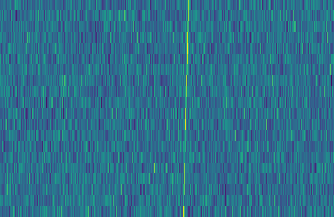signal: (178, 0, 193, 217)
